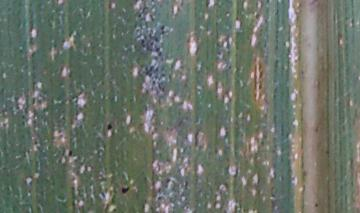tarspot: (143, 65, 154, 77), (120, 185, 130, 195), (157, 81, 165, 92), (159, 24, 166, 35), (159, 71, 168, 79), (139, 39, 146, 49), (106, 122, 113, 131), (153, 64, 160, 73), (313, 201, 320, 209), (136, 12, 143, 20), (157, 50, 163, 59), (32, 139, 39, 146), (204, 1, 210, 9), (153, 46, 160, 52), (68, 149, 73, 157), (151, 79, 156, 86), (154, 36, 159, 42), (264, 1, 269, 5)
